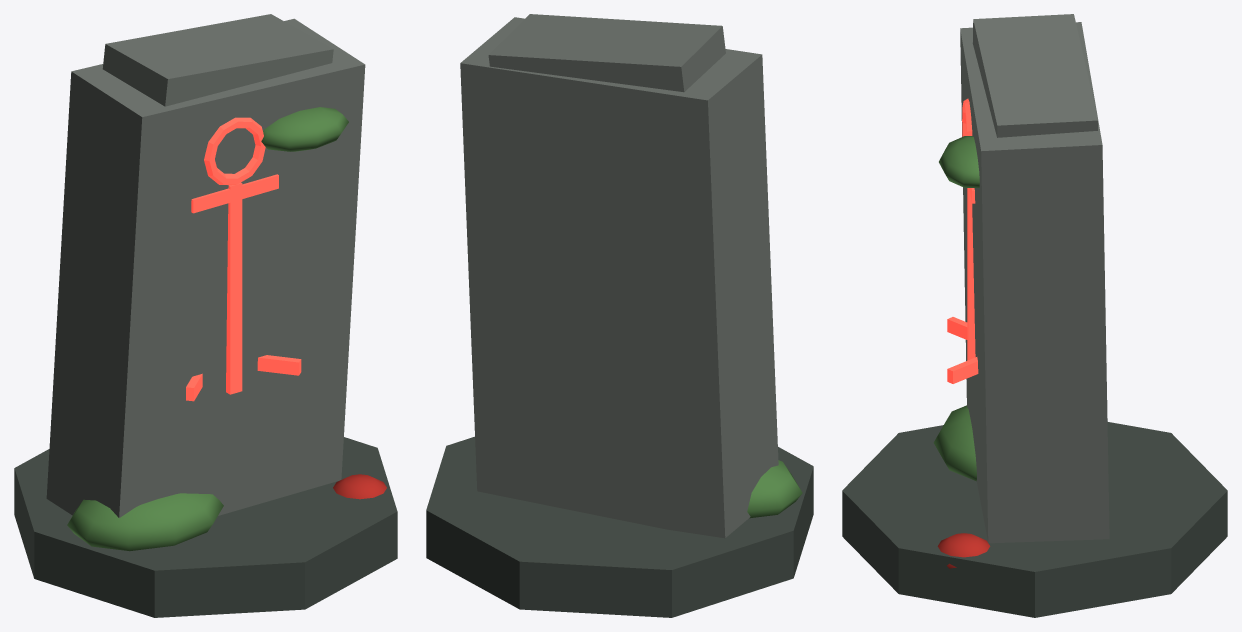
File: Build_Lobby_MapStone_Mushroomhaven.glb
3 views of the same model, side by side, from view 1: azimuth 30°, elevation 25°; view 2: azimuth 150°, elevation 25°; view 3: azimuth 270°, elevation 25° (orthographic). The views are drawn at different scales.
Visible parts, largest first — view 1: Build_Lobby_MapStone_Mushroomhaven; view 2: Build_Lobby_MapStone_Mushroomhaven; view 3: Build_Lobby_MapStone_Mushroomhaven.
Boxes of the visible parts, x1,y1,x2,y2 form: Build_Lobby_MapStone_Mushroomhaven: (14,14,397,617); Build_Lobby_MapStone_Mushroomhaven: (426,14,813,617); Build_Lobby_MapStone_Mushroomhaven: (842,14,1227,617).
Bounding box in the file's own units: 3.8 × 5.27 × 3.8.
